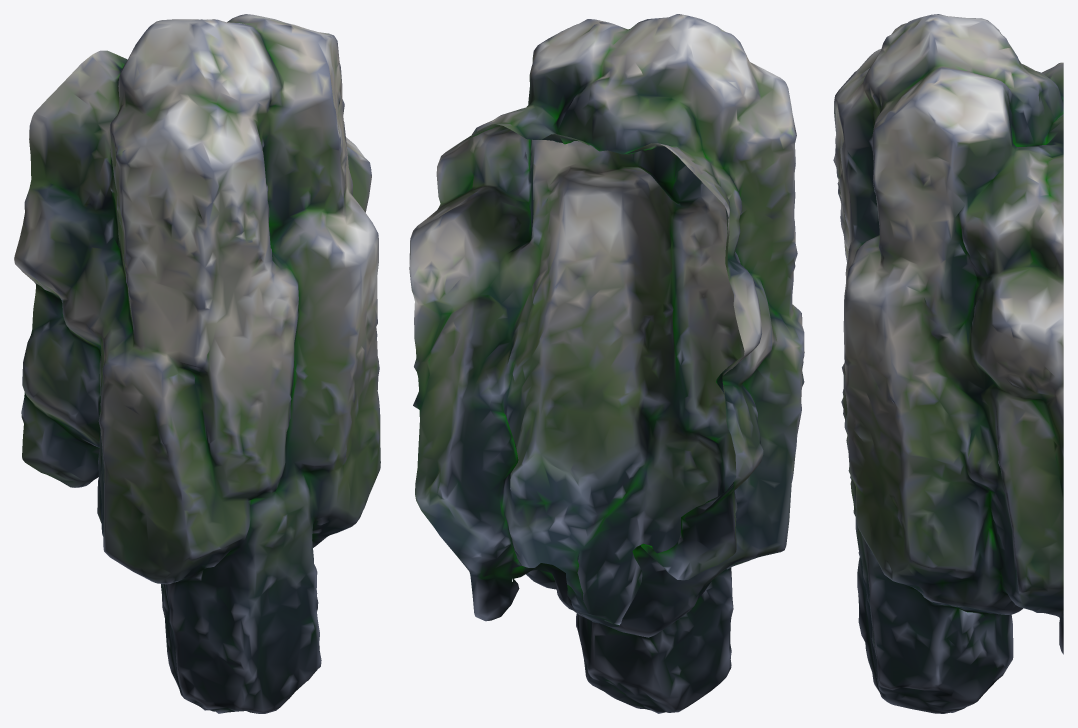
The model's file is M_Cliff_Rock_T3.fbx.
The picture shows the model from 3 angles, left to right: view 1: azimuth 30°, elevation 25°; view 2: azimuth 150°, elevation 25°; view 3: azimuth 270°, elevation 25°; orthographic projection. The views are drawn at different scales.
Visible parts, largest first — view 1: M_Cliff_Rock_T3; view 2: M_Cliff_Rock_T3; view 3: M_Cliff_Rock_T3.
Part boxes in pixels (x1,y1,x2,y2): M_Cliff_Rock_T3: (14, 14, 380, 713); M_Cliff_Rock_T3: (409, 14, 804, 713); M_Cliff_Rock_T3: (833, 14, 1063, 713).
Bounding box in the file's own units: 11.91 × 23.16 × 7.13.
